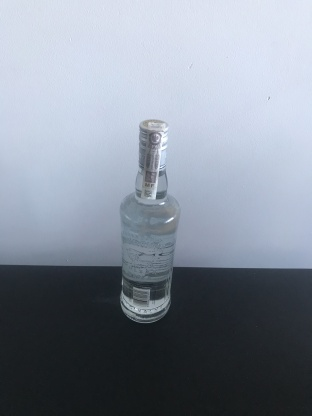nakretka: (136, 116, 171, 171)
